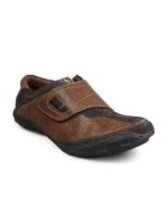shoes: (10, 70, 160, 159)
